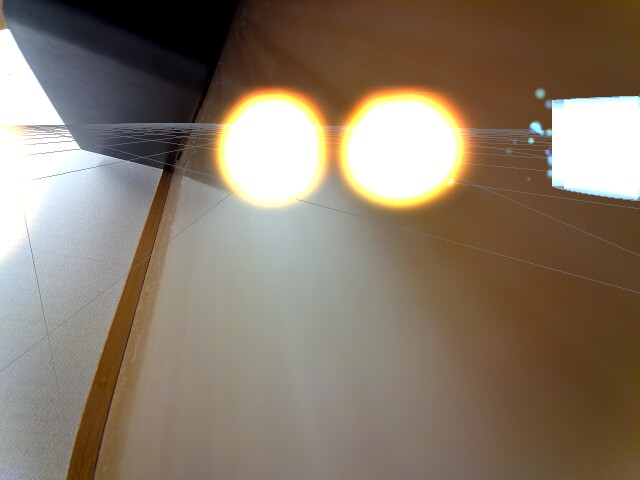firebig: (195, 81, 333, 204)
